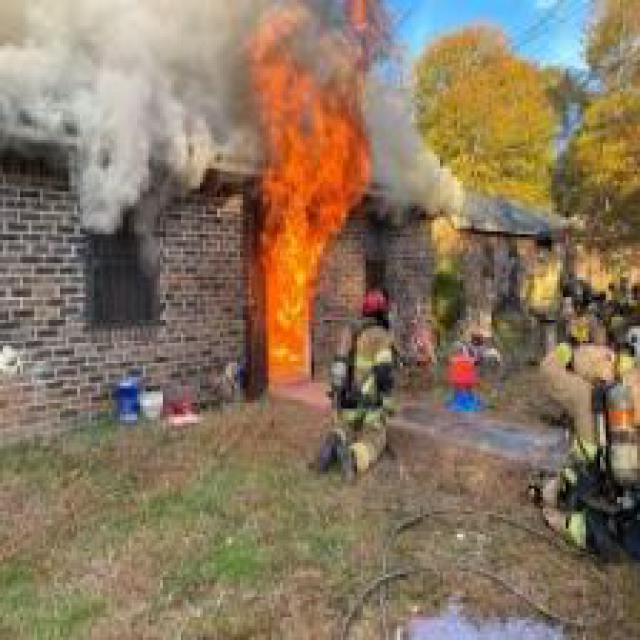fire: (223, 3, 374, 394)
